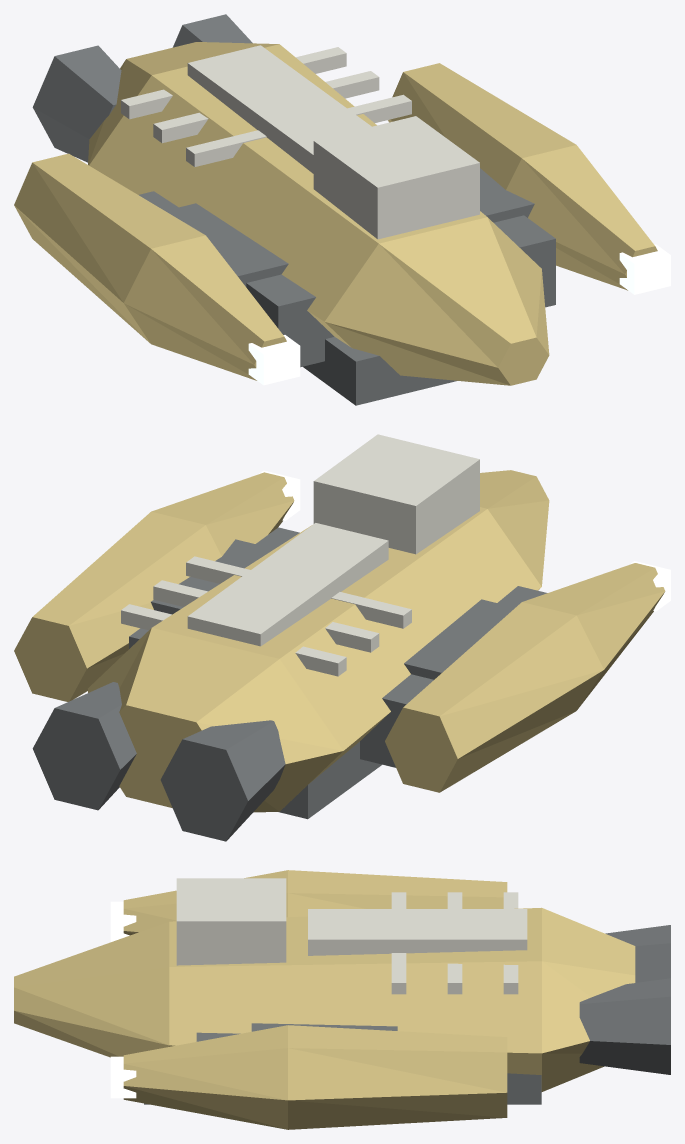
The picture shows the model from 3 angles, top to bottom: view 1: azimuth 30°, elevation 25°; view 2: azimuth 150°, elevation 25°; view 3: azimuth 270°, elevation 25°; orthographic projection. The views are drawn at different scales.
Size of the model in its own units: 4.79 by 1.85 by 6.62.
